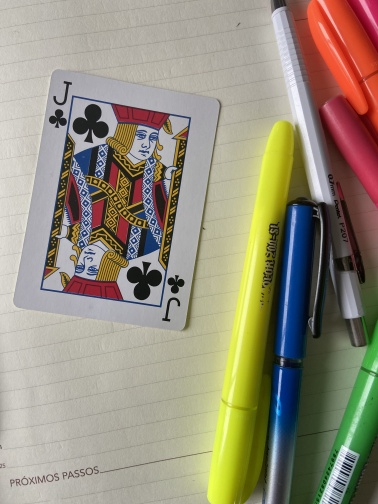jack: (11, 68, 222, 332)
